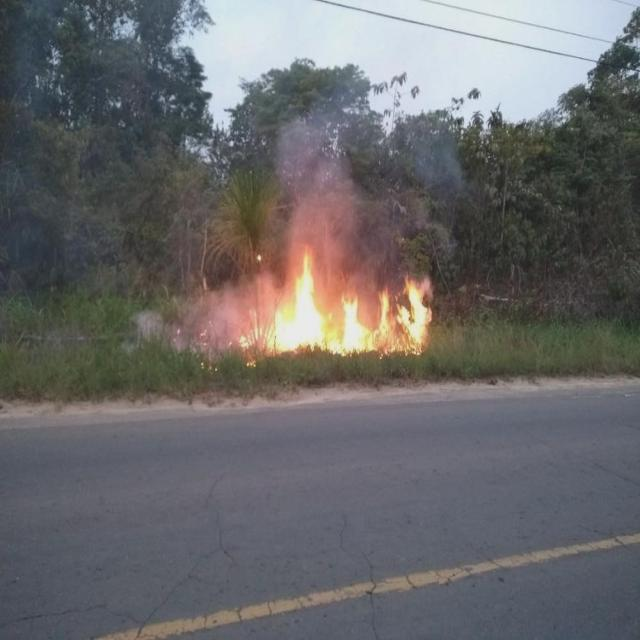Fire: (261, 261, 436, 363)
Smoke: (180, 291, 242, 352)
